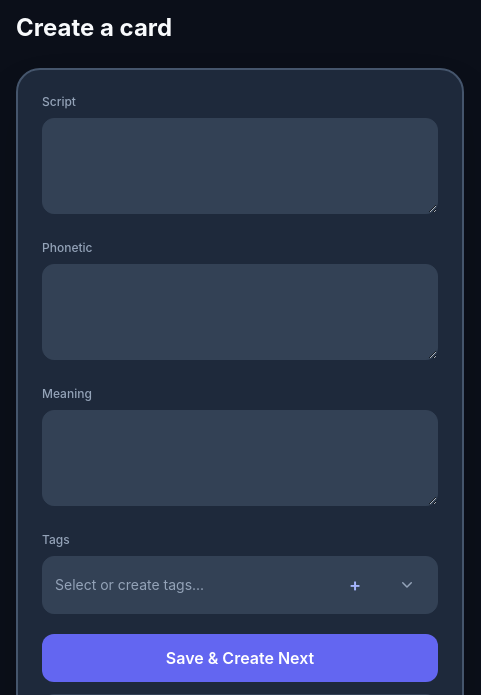
Test: CardEditView › renders the active deck side labels and available tags
Click the button named "Expand tag selector" at (407, 585), box top-left (385, 563), bottom-right (429, 607)
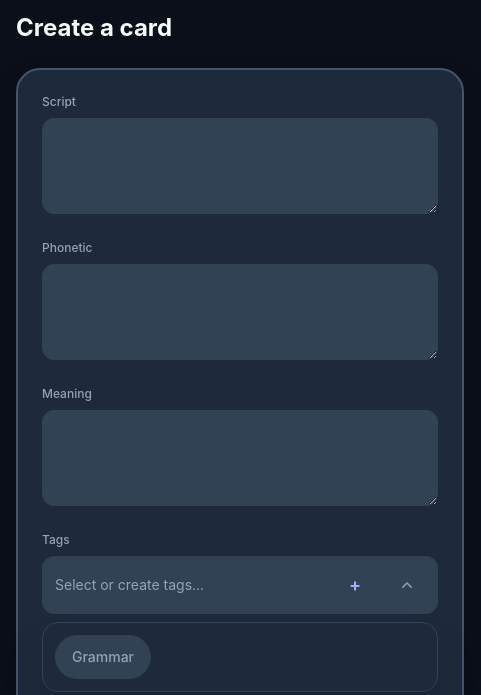
Now the text "Grammar" is shown, box top-left (55, 635), bottom-right (151, 679)
